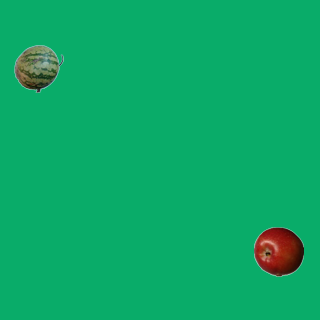Apple Braeburn: (253, 226, 303, 276)
Watermelon: (13, 43, 63, 93)
